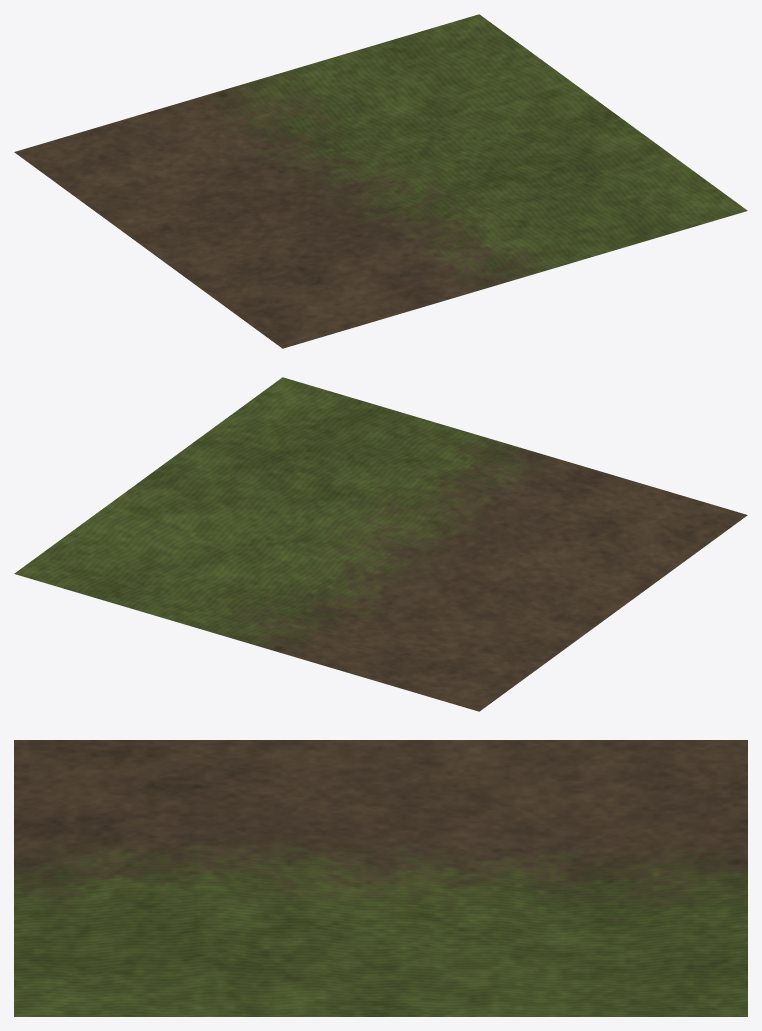
Rendered from soil_grass_slope_lod2.glb.
3 views of the same model, one above another, from view 1: azimuth 30°, elevation 25°; view 2: azimuth 150°, elevation 25°; view 3: azimuth 270°, elevation 25° (orthographic). The views are drawn at different scales.
Visible parts, largest first — view 1: soil_grass_slope_lod2; view 2: soil_grass_slope_lod2; view 3: soil_grass_slope_lod2.
Boxes of the visible parts, left/top/right/bottom form: soil_grass_slope_lod2: left=14, top=14, right=747, bottom=348; soil_grass_slope_lod2: left=14, top=377, right=747, bottom=711; soil_grass_slope_lod2: left=14, top=740, right=747, bottom=1016.
Size of the model in its own units: 2 by 0.1 by 2.
Materials: 1 (1 with a texture image).
